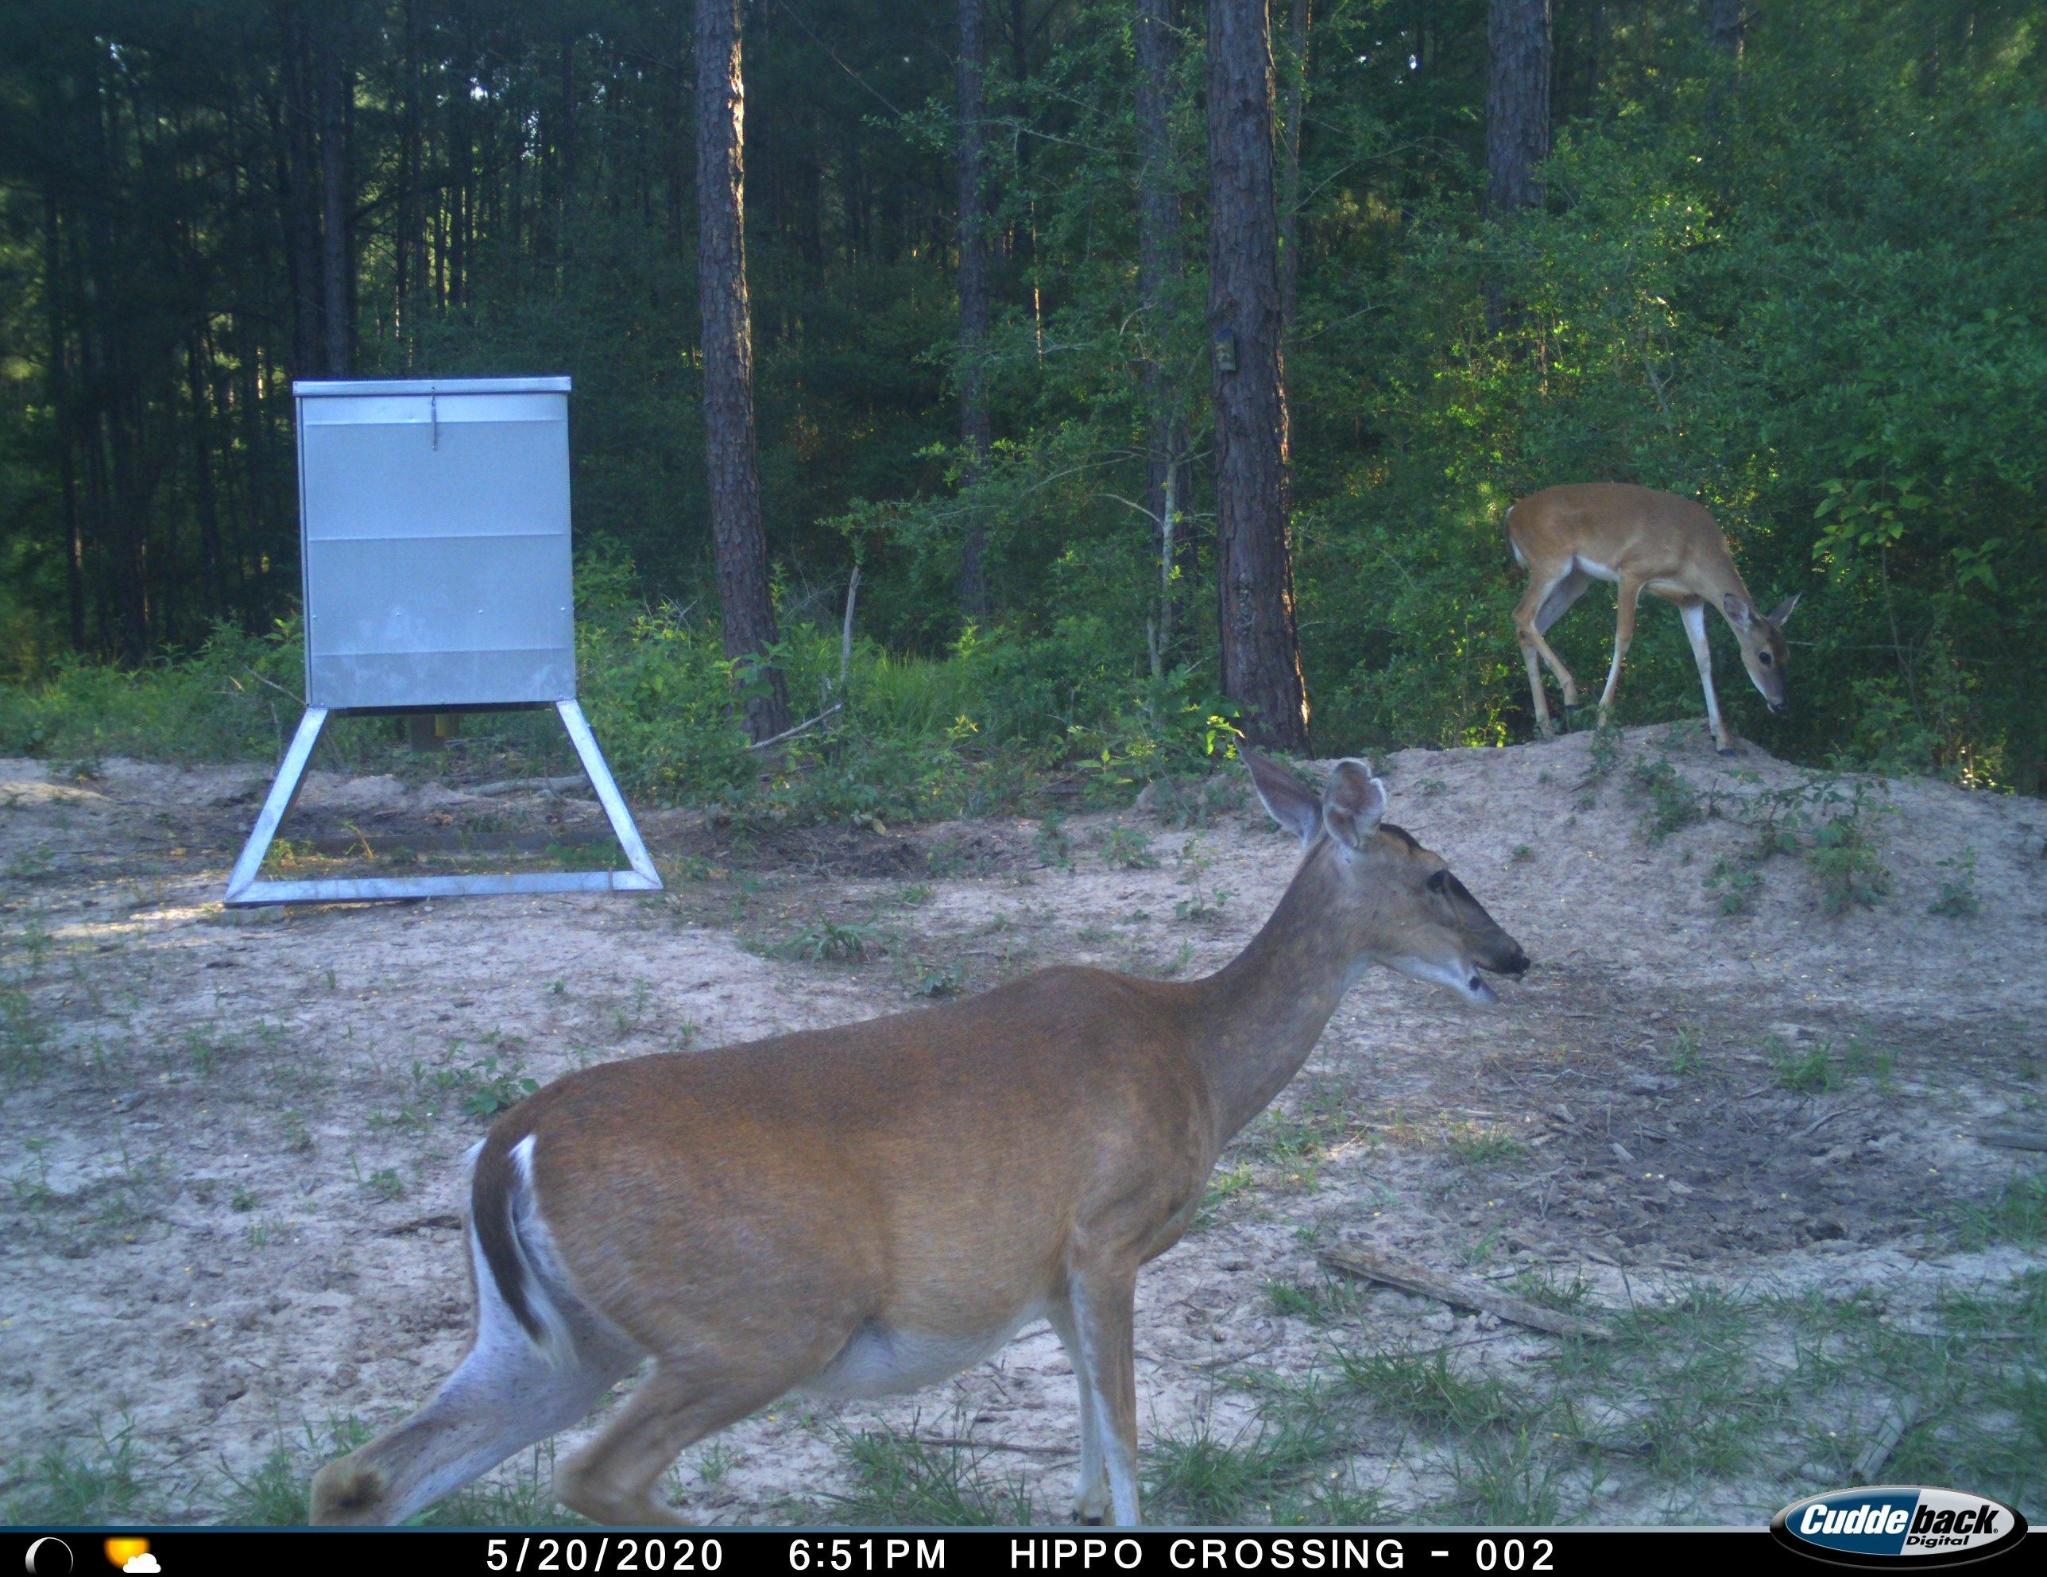Deer: (272, 732, 1539, 1517), (1492, 470, 1817, 760)
